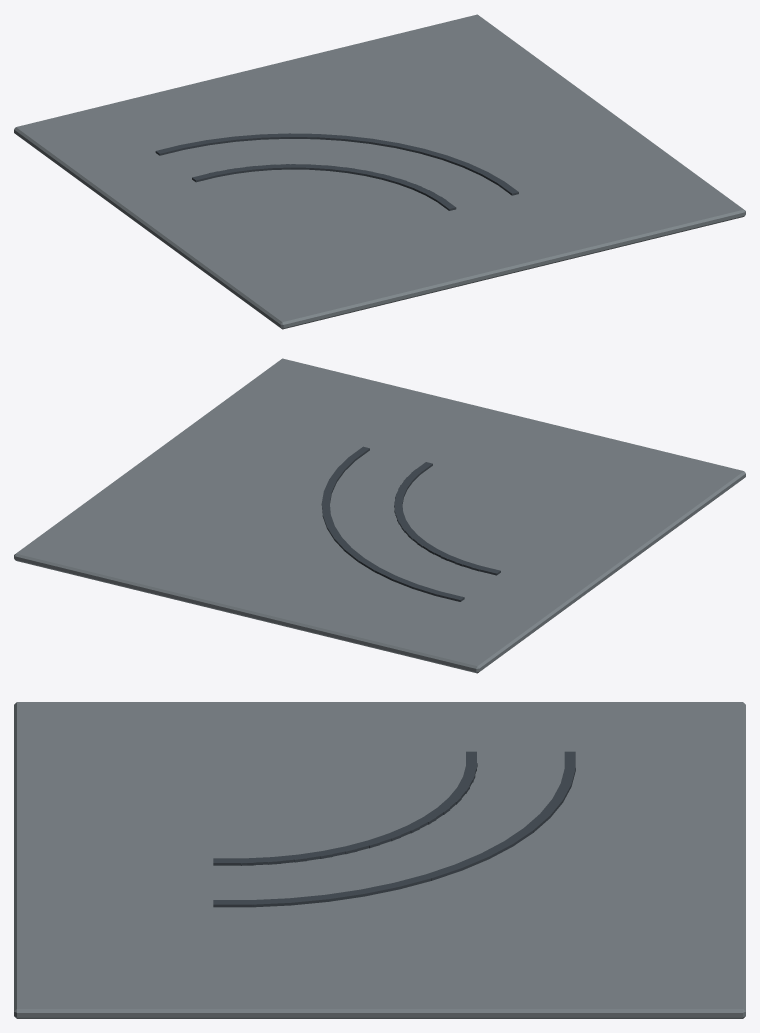
The model's file is TurningTyreTrackTile.fbx.
3 renders of one model, top to bottom at view 1: azimuth 30°, elevation 25°; view 2: azimuth 150°, elevation 25°; view 3: azimuth 270°, elevation 25°, orthographic. The views are drawn at different scales.
Visible parts, largest first — view 1: TurningTyreTrackTile; view 2: TurningTyreTrackTile; view 3: TurningTyreTrackTile.
Boxes of the visible parts, bbox=[...] form: TurningTyreTrackTile: bbox=[14, 14, 745, 329]; TurningTyreTrackTile: bbox=[14, 358, 745, 673]; TurningTyreTrackTile: bbox=[14, 702, 745, 1018].
Size of the model in its own units: 200 by 3.8 by 200.
1 material, 1 textured.
